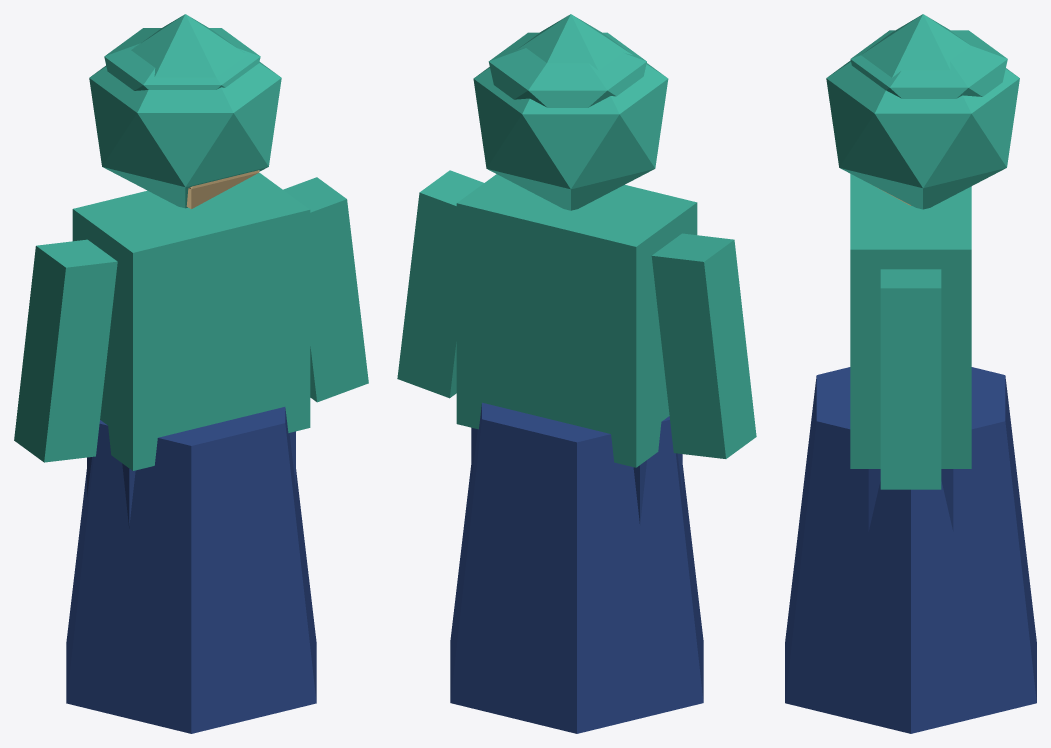
The model's file is people_hijab.glb.
3 renders of one model, left to right at view 1: azimuth 30°, elevation 25°; view 2: azimuth 150°, elevation 25°; view 3: azimuth 270°, elevation 25°, orthographic.
Visible parts, largest first — view 1: people_hijab; view 2: people_hijab; view 3: people_hijab.
Part boxes in pixels (x1,y1,x2,y2): people_hijab: (14, 14, 368, 733); people_hijab: (397, 14, 756, 733); people_hijab: (785, 14, 1036, 733).
Size of the model in its own units: 0.0623 by 0.12 by 0.0416.
